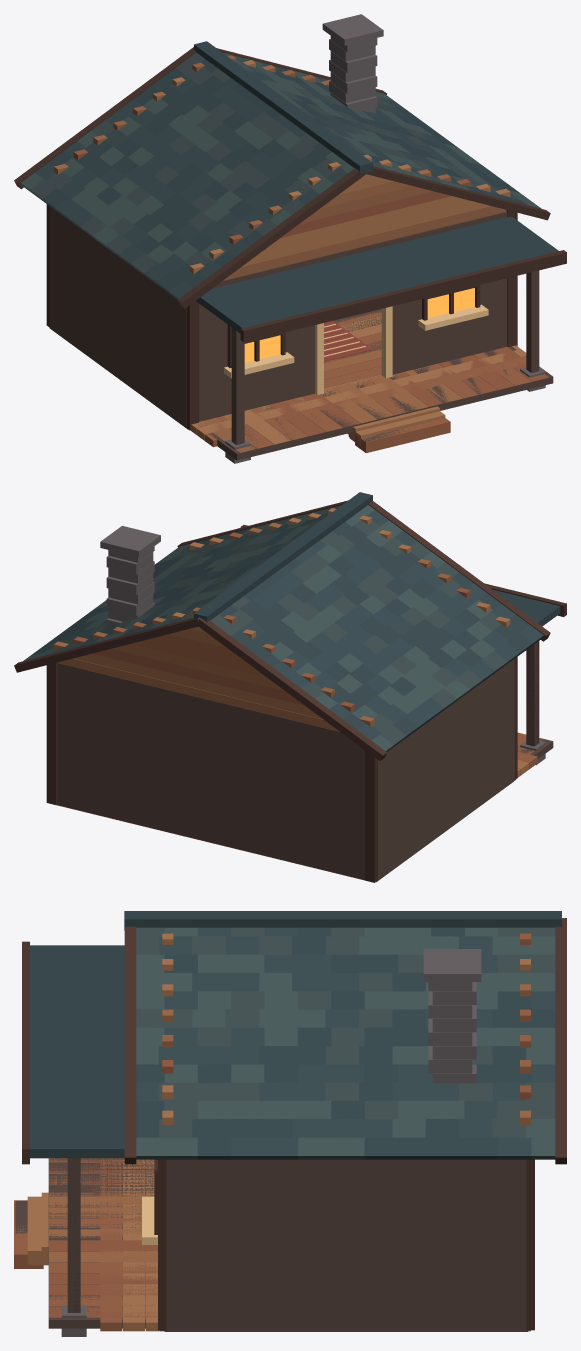
The model's file is ranger-cabin.glb.
3 renders of one model, top to bottom at view 1: azimuth 30°, elevation 25°; view 2: azimuth 150°, elevation 25°; view 3: azimuth 270°, elevation 25°, orthographic. The views are drawn at different scales.
Parts seen in each view (by area): view 1: object 21, COL_left, object 25, object 19, object 26, object 17, object 24, object 18, COL_front_left, COL_front_right, object 15, object 20 (+9 smaller); view 2: COL_rear, object 21, COL_left, object 25, object 26, object 19, object 24, object 20, object 14, object 16, object 18, object 15 (+2 smaller); view 3: COL_right, object 21, object 26, object 25, object 24, object 19, object 20, object 18, object 17, COL_porch, object 15, object 16 (+2 smaller).
Boxes of the visible parts, box(x1,y1,x2,y2) form: object 21: box(42, 41, 558, 333); COL_left: box(49, 206, 186, 428); object 25: box(35, 62, 507, 299); object 19: box(14, 47, 566, 439); object 26: box(21, 53, 541, 263); object 17: box(172, 60, 526, 446); object 24: box(30, 52, 520, 275); object 18: box(113, 55, 531, 453); COL_front_left: box(187, 312, 314, 430); COL_front_right: box(392, 278, 507, 374); object 15: box(73, 149, 548, 435); object 20: box(225, 14, 545, 463); COL_rear: box(57, 663, 364, 879); object 21: box(43, 492, 560, 738); COL_left: box(377, 659, 514, 880); object 25: box(30, 510, 543, 740); object 26: box(23, 505, 495, 751); object 19: box(14, 500, 566, 882); object 24: box(46, 505, 507, 747); object 20: box(100, 525, 545, 765); object 14: box(57, 527, 543, 760); object 16: box(54, 522, 431, 880); object 18: box(113, 607, 537, 768); object 15: box(73, 532, 470, 712); COL_right: box(166, 1159, 526, 1331); object 21: box(30, 911, 561, 1159); object 26: box(136, 927, 555, 1159); object 25: box(136, 927, 555, 1159); object 24: box(136, 918, 564, 1137); object 19: box(22, 918, 566, 1330); object 20: box(61, 949, 481, 1336); object 18: box(14, 933, 530, 1331); object 17: box(27, 933, 530, 1331); COL_porch: box(48, 1158, 154, 1328); object 15: box(49, 1060, 530, 1317); object 16: box(49, 984, 530, 1331).
Bounding box in the file's own units: 8.16 × 5.65 × 8.04.
